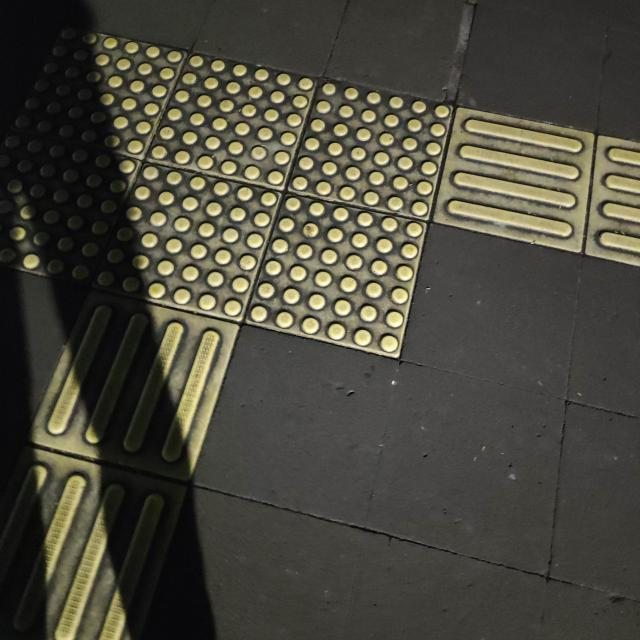kanan: (57, 11, 640, 475)
